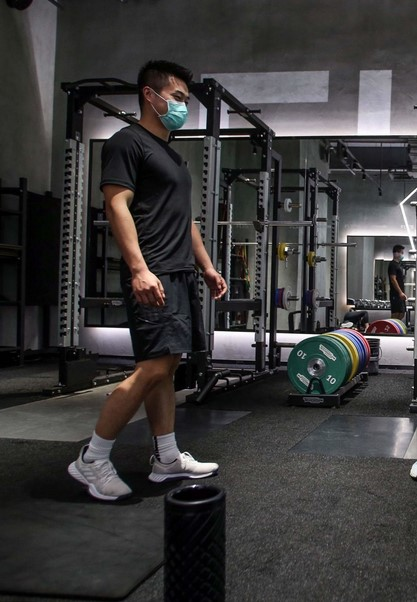face_with_mask: (137, 57, 193, 137)
